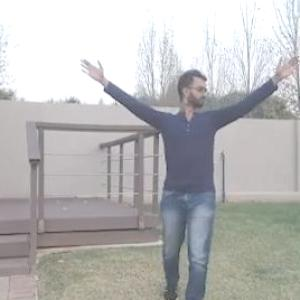takeoff: (80, 55, 299, 299)
